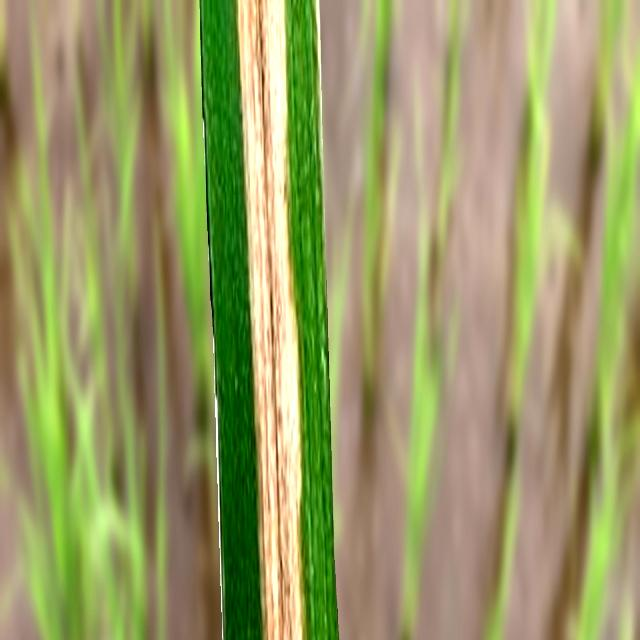BLB: (236, 0, 309, 640)
